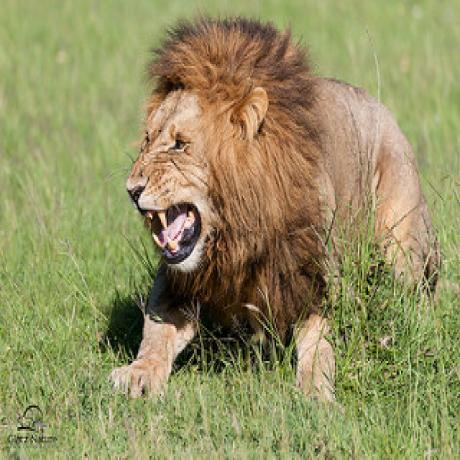Lion: (108, 8, 442, 415)
